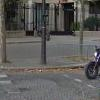Motorcycle: (78, 41, 100, 86)
